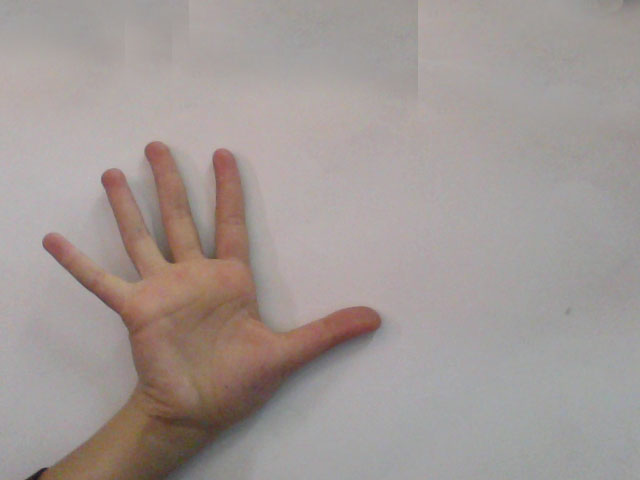hand: (35, 131, 391, 408)
